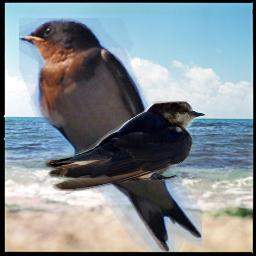Swallow: (19, 18, 202, 252), (45, 101, 206, 191)
